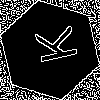K: (25, 25, 79, 68)
